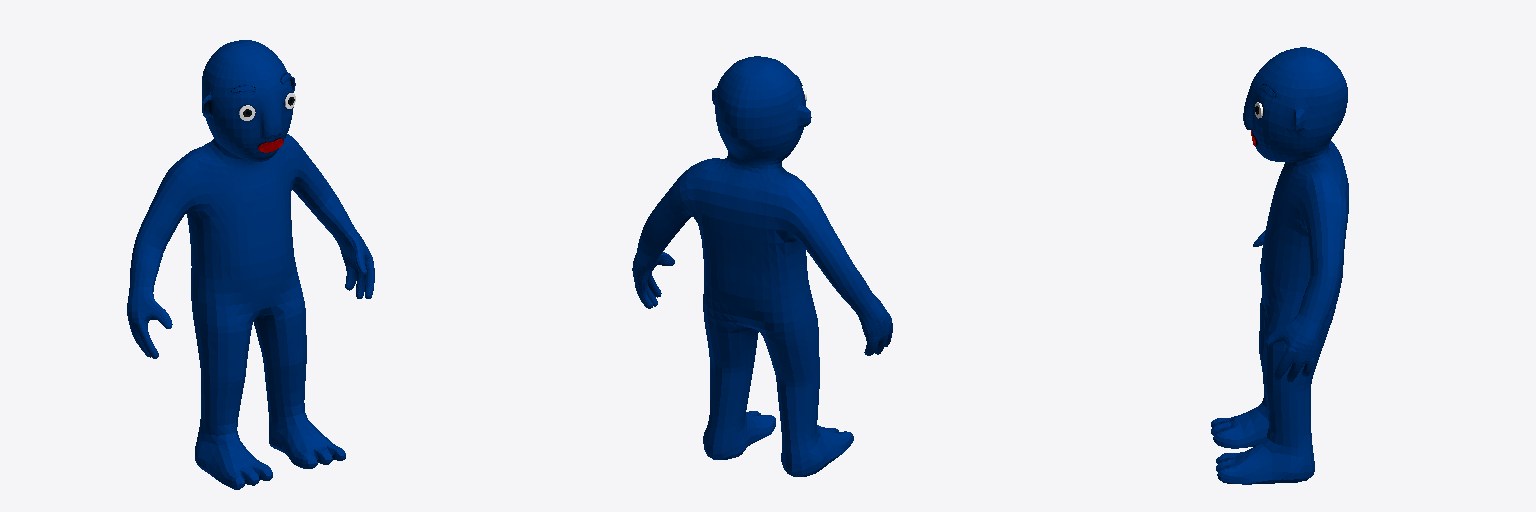
3 views of the same model, side by side, from view 1: azimuth 30°, elevation 25°; view 2: azimuth 150°, elevation 25°; view 3: azimuth 270°, elevation 25° (orthographic).
Visible parts, largest first — view 1: creature_Mesh; view 2: creature_Mesh; view 3: creature_Mesh.
Boxes of the visible parts, <box> form: creature_Mesh: <box>127,40,374,489</box>; creature_Mesh: <box>632,56,892,476</box>; creature_Mesh: <box>1211,47,1348,484</box>.
Bounding box in the file's own units: 3.82 × 6.07 × 1.87.
1 materials, 1 textured.